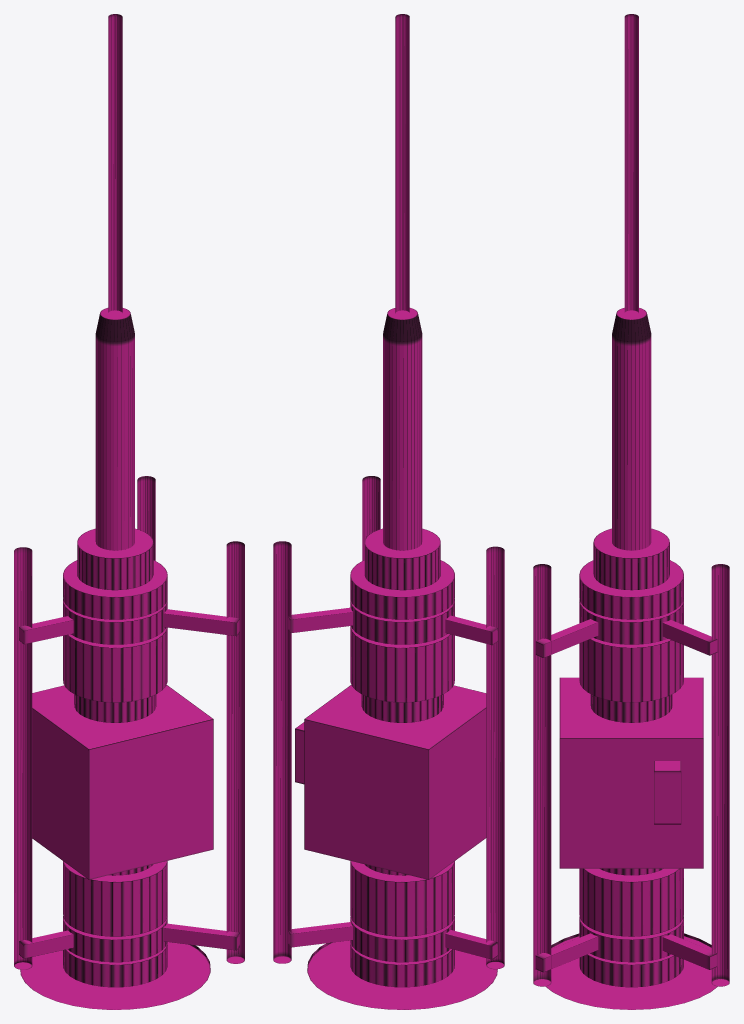
The model's file is moisture_vaporator.gltf.
3 renders of one model, left to right at view 1: azimuth 30°, elevation 25°; view 2: azimuth 150°, elevation 25°; view 3: azimuth 270°, elevation 25°, orthographic.
Visible parts, largest first — view 1: Cube; view 2: Cube; view 3: Cube.
Part boxes in pixels (x1,y1,x2,y2): Cube: (14,14,244,1009); Cube: (273,14,504,1009); Cube: (533,14,729,1009).
Size of the model in its own units: 2.95 by 14.61 by 2.73.
Materials: 1 (1 with a texture image).
